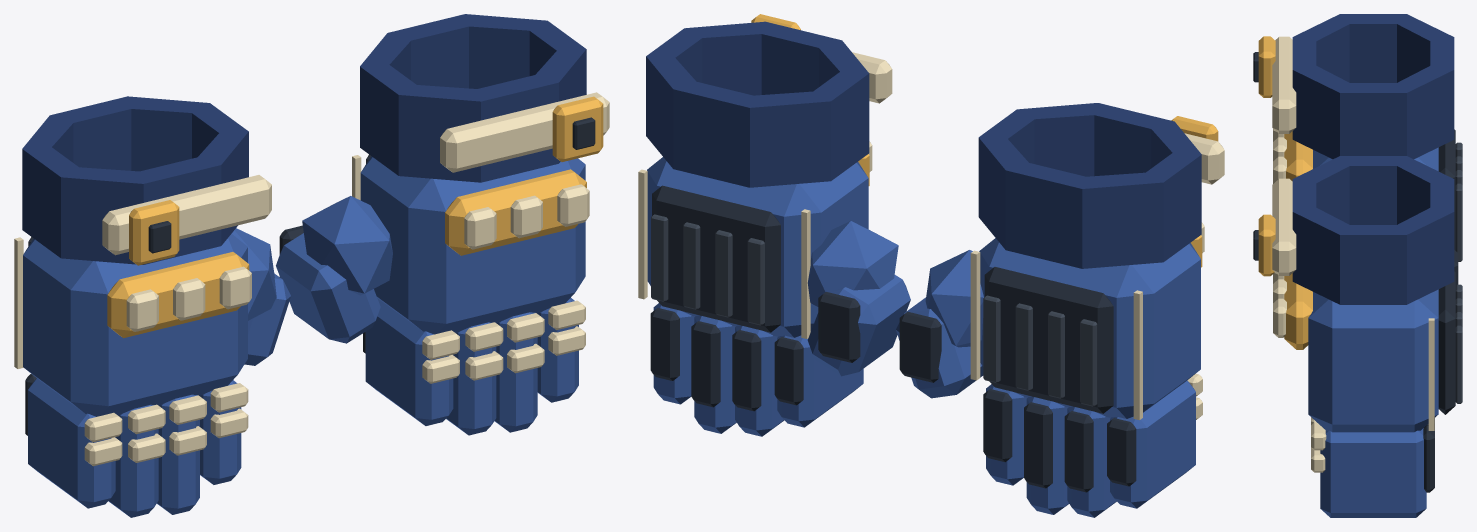
The model's file is itm_grip_gloves.glb.
The picture shows the model from 3 angles, left to right: view 1: azimuth 30°, elevation 25°; view 2: azimuth 150°, elevation 25°; view 3: azimuth 270°, elevation 25°; orthographic projection. The views are drawn at different scales.
Parts seen in each view (by area): view 1: itm_grip_gloves__open_wrist_cuff_left, itm_grip_gloves__open_wrist_cuff_right, itm_grip_gloves__palm_shell_right, itm_grip_gloves__palm_shell_left, itm_grip_gloves__finger_00_right, itm_grip_gloves__finger_00_left, itm_grip_gloves__thumb_base_left, itm_grip_gloves__thumb_tip_left, itm_grip_gloves__wrist_strap_left, itm_grip_gloves__wrist_strap_right, itm_grip_gloves__knuckle_guard_left, itm_grip_gloves__knuckle_guard_right (+35 smaller); view 2: itm_grip_gloves__open_wrist_cuff_left, itm_grip_gloves__open_wrist_cuff_right, itm_grip_gloves__palm_shell_right, itm_grip_gloves__palm_shell_left, itm_grip_gloves__palm_rubber_left, itm_grip_gloves__palm_rubber_right, itm_grip_gloves__finger_00_right, itm_grip_gloves__thumb_base_left, itm_grip_gloves__thumb_tip_left, itm_grip_gloves__thumb_base_right, itm_grip_gloves__finger_00_left, itm_grip_gloves__thumb_grip_left (+31 smaller); view 3: itm_grip_gloves__open_wrist_cuff_left, itm_grip_gloves__open_wrist_cuff_right, itm_grip_gloves__palm_shell_left, itm_grip_gloves__finger_03_left, itm_grip_gloves__palm_rubber_left, itm_grip_gloves__wrist_strap_right, itm_grip_gloves__wrist_strap_left, itm_grip_gloves__knuckle_guard_left, itm_grip_gloves__wrist_buckle_left, itm_grip_gloves__wrist_buckle_right, itm_grip_gloves__knuckle_guard_right, itm_grip_gloves__palm_seam_01_left (+11 smaller).
Part boxes in pixels (x1,y1,x2,y2): itm_grip_gloves__open_wrist_cuff_left: (360,14,586,182); itm_grip_gloves__open_wrist_cuff_right: (22,96,248,264); itm_grip_gloves__palm_shell_right: (23,233,247,416); itm_grip_gloves__palm_shell_left: (360,156,585,334); itm_grip_gloves__finger_00_right: (28,378,115,508); itm_grip_gloves__finger_00_left: (365,298,453,425); itm_grip_gloves__thumb_base_left: (302,196,392,295); itm_grip_gloves__thumb_tip_left: (276,233,380,343); itm_grip_gloves__wrist_strap_left: (440,92,609,172); itm_grip_gloves__wrist_strap_right: (102,175,271,255); itm_grip_gloves__knuckle_guard_left: (445,169,586,255); itm_grip_gloves__knuckle_guard_right: (107,252,249,338); itm_grip_gloves__open_wrist_cuff_left: (646,21,869,187); itm_grip_gloves__open_wrist_cuff_right: (978,103,1201,268); itm_grip_gloves__palm_shell_right: (979,238,1200,418); itm_grip_gloves__palm_shell_left: (647,157,868,337); itm_grip_gloves__palm_rubber_left: (652,185,780,332); itm_grip_gloves__palm_rubber_right: (984,267,1113,413); itm_grip_gloves__finger_00_right: (1110,380,1195,508); itm_grip_gloves__thumb_base_left: (807,221,898,306); itm_grip_gloves__thumb_tip_left: (807,275,910,376); itm_grip_gloves__thumb_base_right: (925,250,983,347); itm_grip_gloves__finger_00_left: (777,335,863,427); itm_grip_gloves__thumb_grip_left: (818,292,860,362); itm_grip_gloves__open_wrist_cuff_left: (1292,156,1454,304); itm_grip_gloves__open_wrist_cuff_right: (1292,14,1454,159); itm_grip_gloves__palm_shell_left: (1308,289,1438,432); itm_grip_gloves__finger_03_left: (1320,428,1426,517); itm_grip_gloves__palm_rubber_left: (1438,271,1455,414); itm_grip_gloves__wrist_strap_right: (1272,36,1296,133); itm_grip_gloves__wrist_strap_left: (1272,178,1296,275); itm_grip_gloves__knuckle_guard_left: (1284,273,1312,349); itm_grip_gloves__wrist_buckle_left: (1258,214,1275,276); itm_grip_gloves__wrist_buckle_right: (1258,36,1275,97); itm_grip_gloves__knuckle_guard_right: (1284,131,1312,181); itm_grip_gloves__palm_seam_01_left: (1428,318,1434,430).
Size of the model in its own units: 0.305 by 0.1995 by 0.122.
